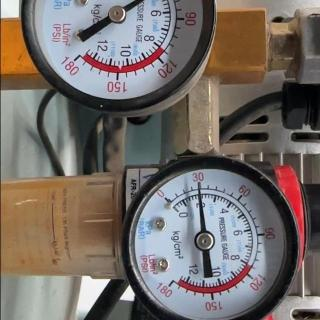gauge: (121, 156, 307, 320), (2, 0, 220, 118), (59, 43, 91, 73), (155, 188, 177, 212), (193, 230, 215, 252), (161, 275, 181, 293), (107, 5, 126, 23), (195, 179, 202, 189)
